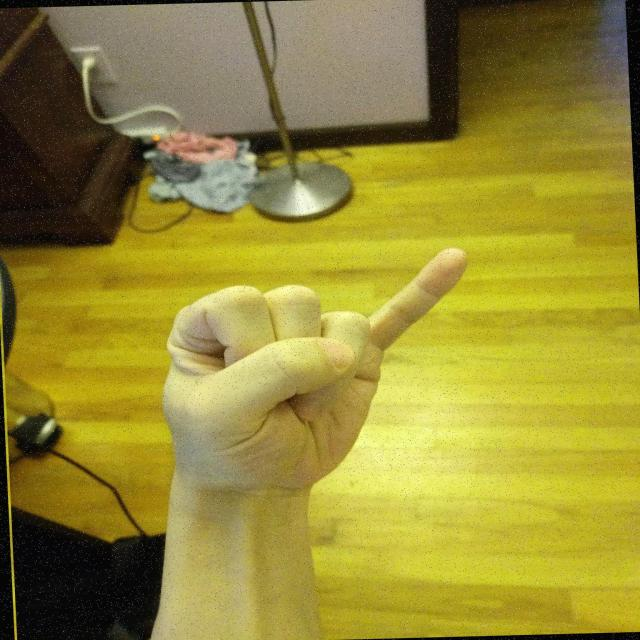I: (146, 242, 485, 500)
